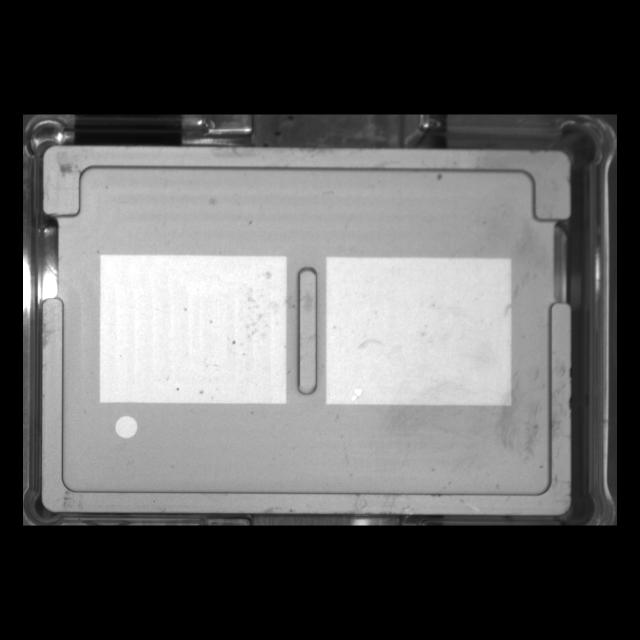door: (31, 134, 590, 242)
point: (105, 406, 146, 446)
